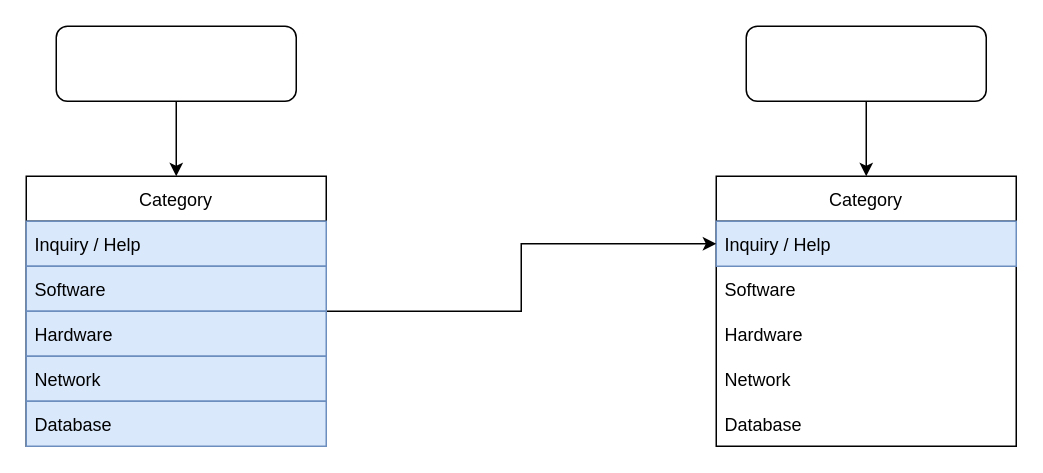
This 1043x473 diagram has some shape labels left out. The box of each missing label's shape, as (x1, y1, x2, y2) in pixels:
Customer Instance (Company B): (745, 25, 986, 101)
Vendor Instance (Company A): (55, 25, 296, 101)
